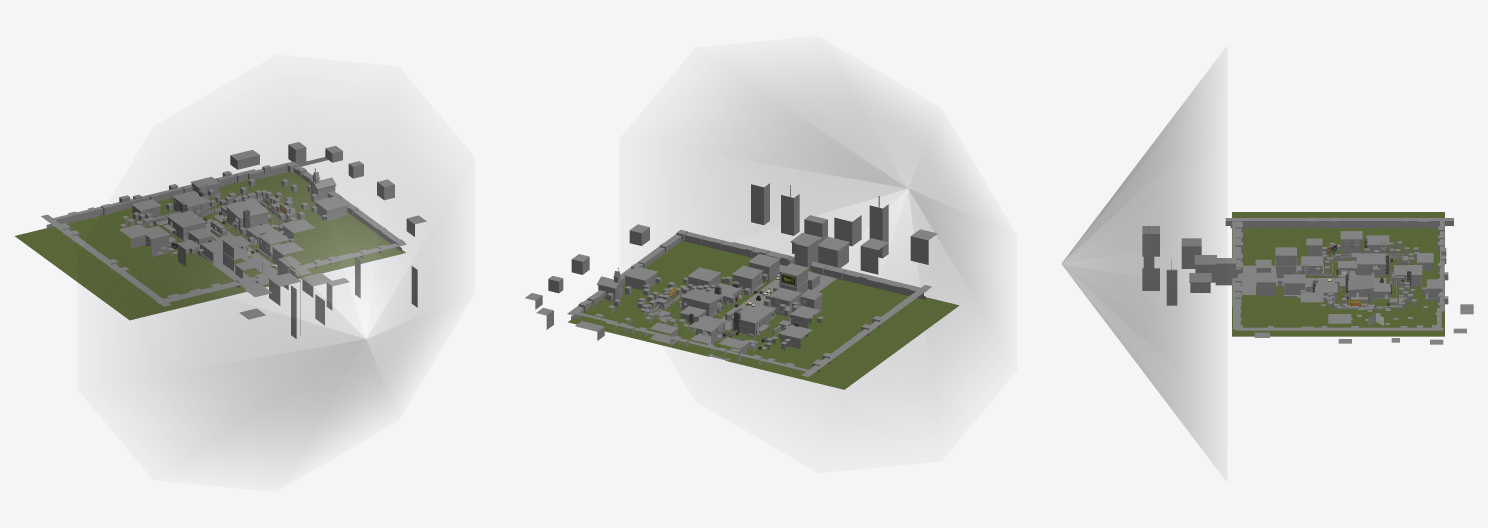
The model's file is gamemap.glb.
The picture shows the model from 3 angles, left to right: view 1: azimuth 30°, elevation 25°; view 2: azimuth 150°, elevation 25°; view 3: azimuth 270°, elevation 25°; orthographic projection. The views are drawn at different scales.
Parts seen in each view (by area): view 1: Light Cone_2419, Plane_2309, Plane_2720, Cube_810, Cube_1126, Cube_107, Cube_746; view 2: Light Cone_2419, Plane_2309, Plane_2720, Cube_1126, Cube_915, Cube_957, Cube_919, Cube_921, Cube_899, Cube_1116, Cube_2467, Cube_2469 (+1 smaller); view 3: Light Cone_2419, Plane_2720, Plane_2309, Cube_1126, Cube_746, Cube_899, Cube_921, Cube_1128.
Part boxes in pixels (x1=…): Light Cone_2419: x1=165, y1=141, x2=441, y2=445; Plane_2309: x1=15, y1=208, x2=246, y2=320; Plane_2720: x1=157, y1=172, x2=405, y2=287; Cube_810: x1=51, y1=169, x2=256, y2=223; Cube_1126: x1=41, y1=214, x2=170, y2=306; Cube_107: x1=205, y1=219, x2=277, y2=273; Cube_746: x1=293, y1=162, x2=405, y2=248; Light Cone_2419: x1=707, y1=82, x2=984, y2=386; Plane_2309: x1=725, y1=278, x2=959, y2=389; Plane_2720: x1=568, y1=241, x2=812, y2=356; Cube_1126: x1=801, y1=285, x2=931, y2=376; Cube_915: x1=869, y1=204, x2=888, y2=258; Cube_957: x1=751, y1=183, x2=769, y2=225; Cube_919: x1=781, y1=194, x2=799, y2=235; Cube_921: x1=860, y1=238, x2=888, y2=274; Cube_899: x1=794, y1=236, x2=818, y2=269; Cube_1116: x1=810, y1=262, x2=928, y2=297; Cube_2467: x1=834, y1=215, x2=861, y2=246; Cube_2469: x1=910, y1=229, x2=937, y2=264; Light Cone_2419: x1=1061, y1=78, x2=1203, y2=450; Plane_2720: x1=1232, y1=272, x2=1444, y2=336; Plane_2309: x1=1232, y1=212, x2=1444, y2=265; Cube_1126: x1=1225, y1=218, x2=1453, y2=225; Cube_746: x1=1235, y1=327, x2=1443, y2=330; Cube_899: x1=1215, y1=258, x2=1235, y2=285; Cube_921: x1=1181, y1=238, x2=1201, y2=268; Cube_1128: x1=1230, y1=226, x2=1439, y2=228.
Size of the model in its own units: 2756 by 2898 by 2347.
100 materials, 99 textured.
